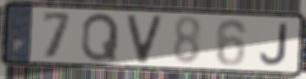6: (214, 18, 248, 68)
7: (40, 11, 74, 60)
8: (171, 14, 204, 67)
J: (257, 22, 289, 68)
Q: (79, 12, 121, 63)
V: (124, 13, 166, 66)
